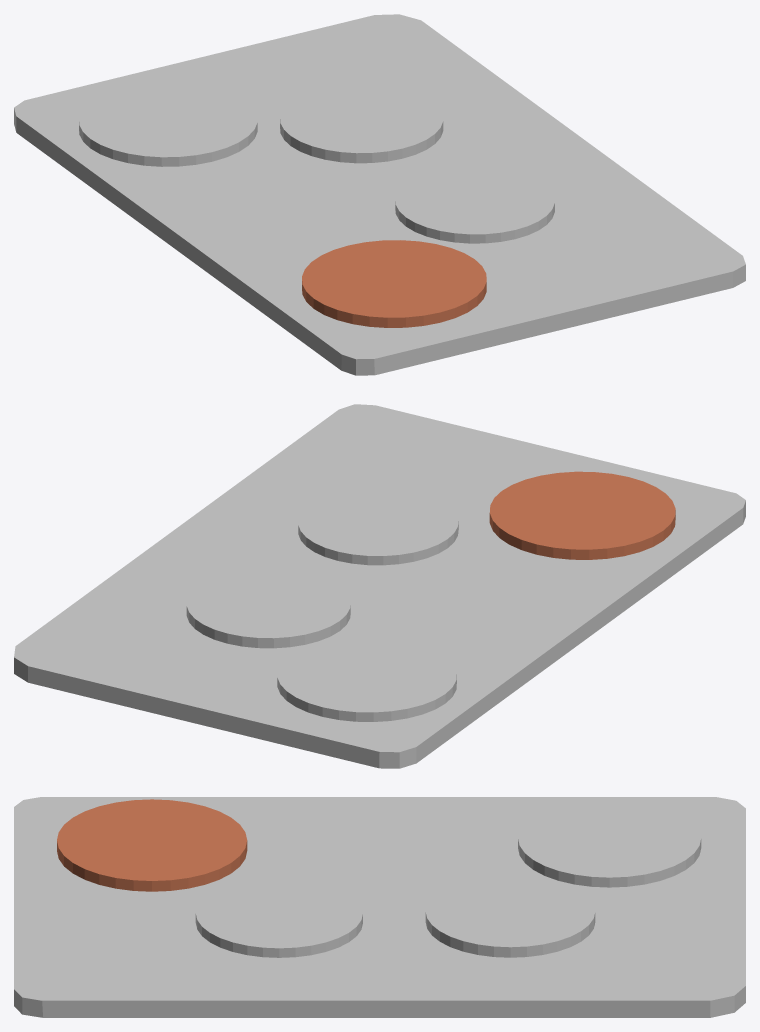
The model's file is Stove.obj.
3 renders of one model, top to bottom at view 1: azimuth 30°, elevation 25°; view 2: azimuth 150°, elevation 25°; view 3: azimuth 270°, elevation 25°, orthographic. The views are drawn at different scales.
Parts seen in each view (by area): view 1: Cube, Cylinder, Cylinder.001, Cylinder.003, Cylinder.002; view 2: Cube, Cylinder, Cylinder.001, Cylinder.003, Cylinder.002; view 3: Cube, Cylinder, Cylinder.001, Cylinder.003, Cylinder.002.
Boxes of the visible parts, x1,y1,x2,y2 form: Cube: [14, 14, 745, 375]; Cylinder: [302, 240, 486, 327]; Cylinder.001: [79, 82, 257, 166]; Cylinder.003: [280, 84, 443, 163]; Cylinder.002: [395, 166, 554, 243]; Cube: [14, 404, 745, 768]; Cylinder: [489, 471, 675, 559]; Cylinder.001: [277, 637, 456, 721]; Cylinder.003: [186, 569, 350, 648]; Cylinder.002: [298, 488, 458, 565]; Cube: [14, 797, 745, 1017]; Cylinder: [57, 799, 247, 891]; Cylinder.001: [518, 798, 701, 887]; Cylinder.003: [425, 875, 595, 957]; Cylinder.002: [195, 878, 362, 957].
Size of the model in its own units: 6.62 by 0.4215 by 10.06.
